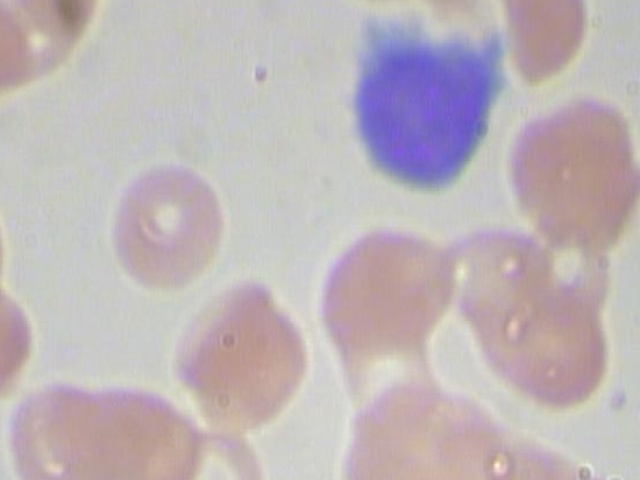RBC: (316, 208, 465, 366), (164, 271, 312, 429), (499, 89, 640, 253), (99, 156, 233, 292), (501, 289, 617, 407), (7, 380, 126, 480), (492, 0, 608, 83), (177, 421, 266, 480), (322, 0, 438, 17)
WBC: (334, 1, 538, 197)
